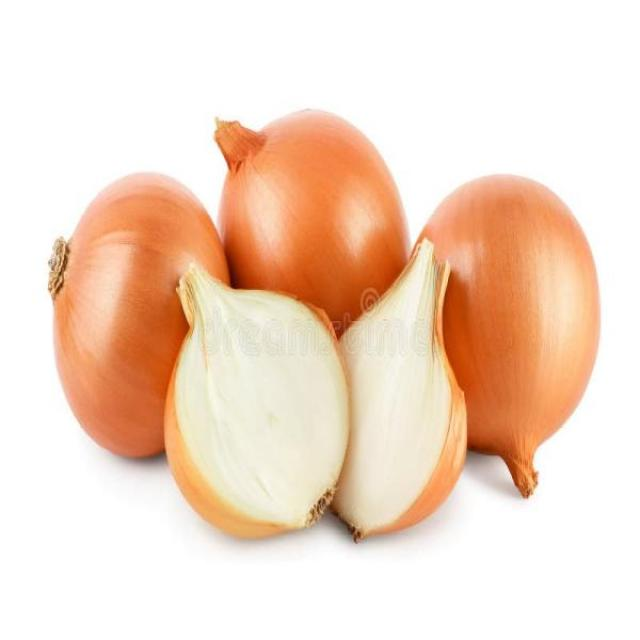Onion: (419, 174, 602, 499), (48, 173, 230, 463), (162, 268, 352, 543), (213, 109, 411, 335), (329, 241, 466, 544)
